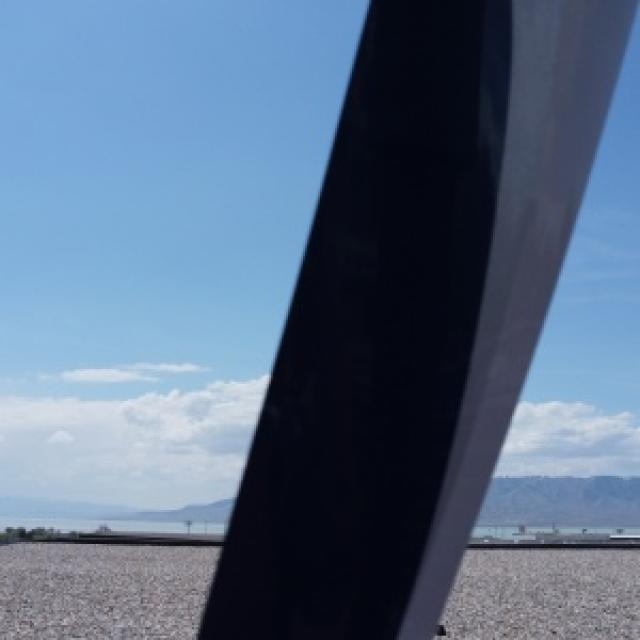healthy: (198, 0, 634, 638)
